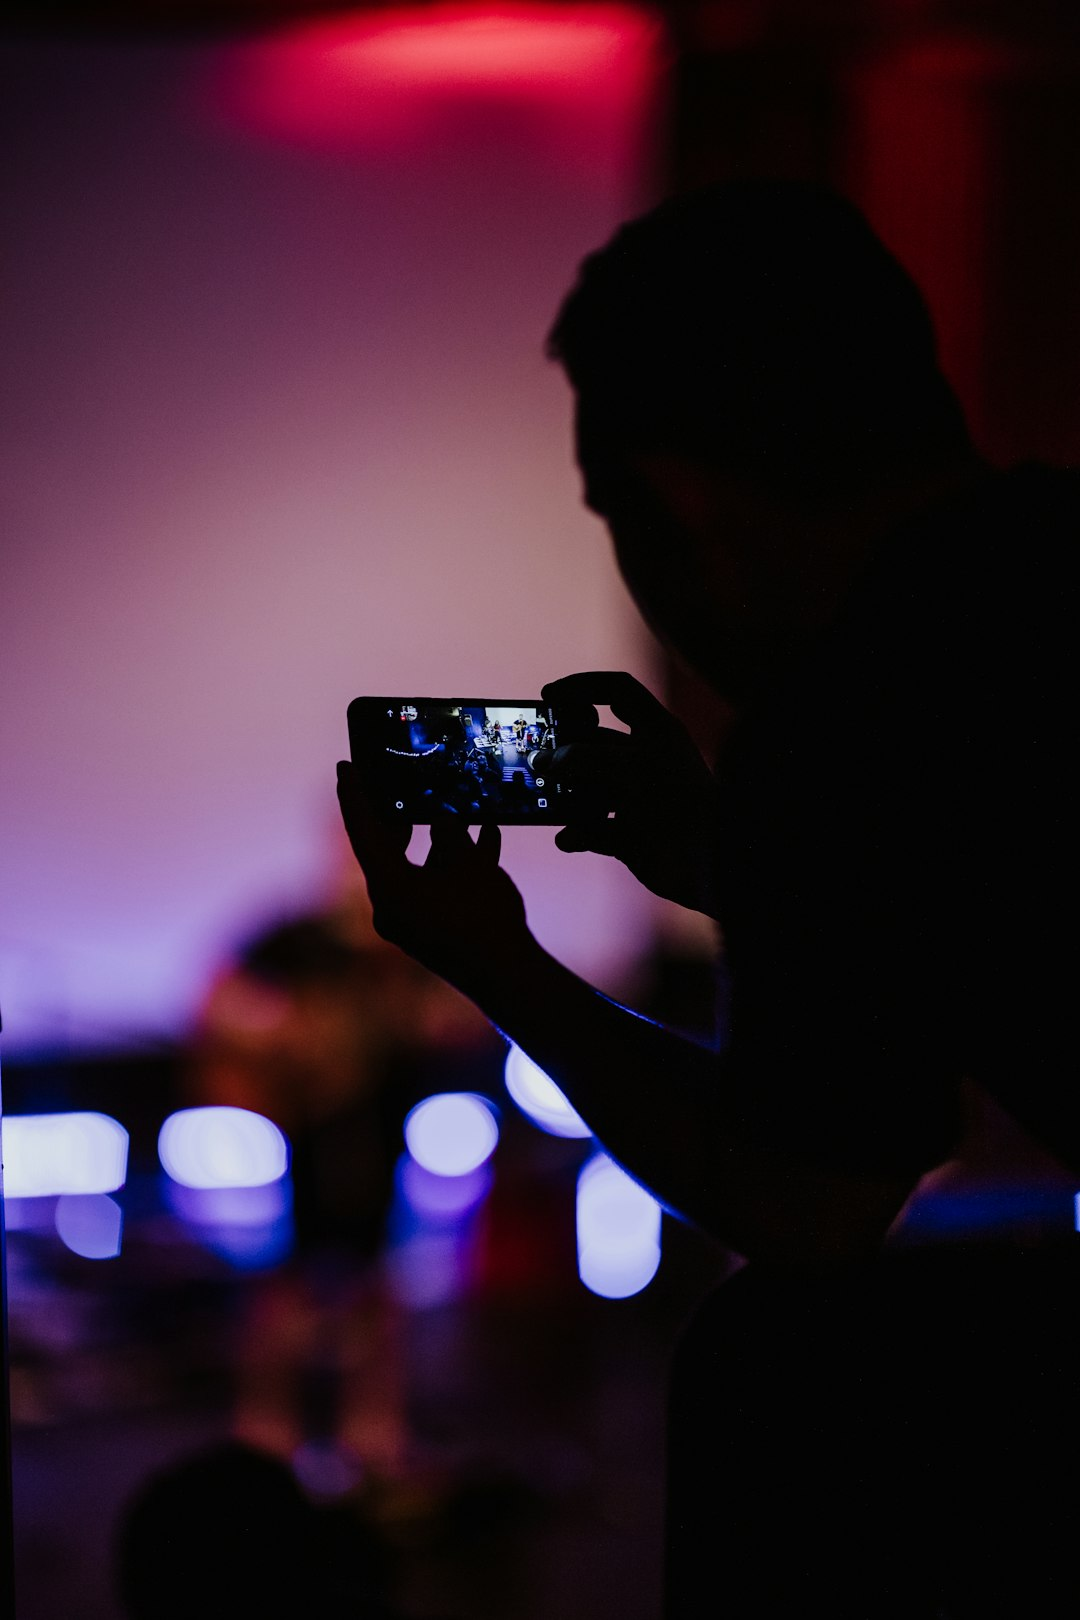phone: (341, 685, 614, 835)
